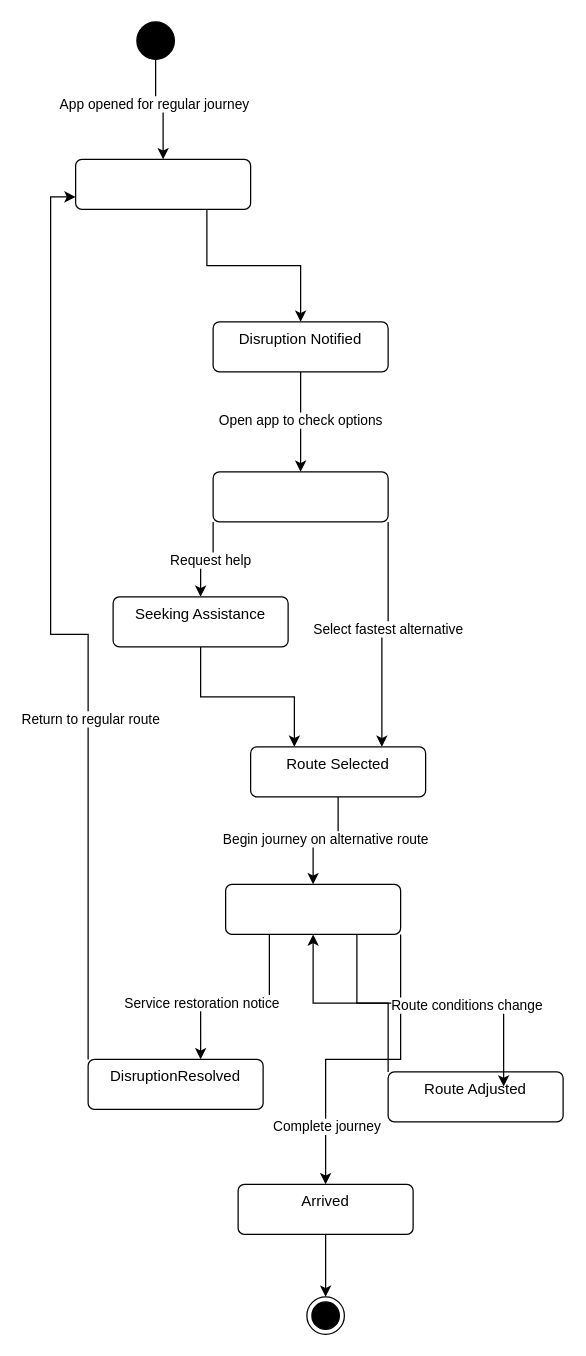
This 586x1356 diagram has some shape labels left out. Each missing label, with the box of its shape:
InTransit: (224, 883, 401, 934)
Normal Commute: (74, 158, 251, 209)
Reviewing Alternatives: (212, 471, 388, 522)
